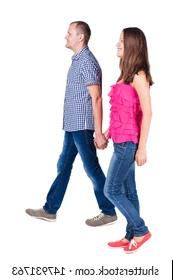short sleeve shirt: (60, 46, 102, 132)
trousers: (42, 125, 115, 218), (102, 135, 150, 240)
vest: (108, 75, 143, 146)
